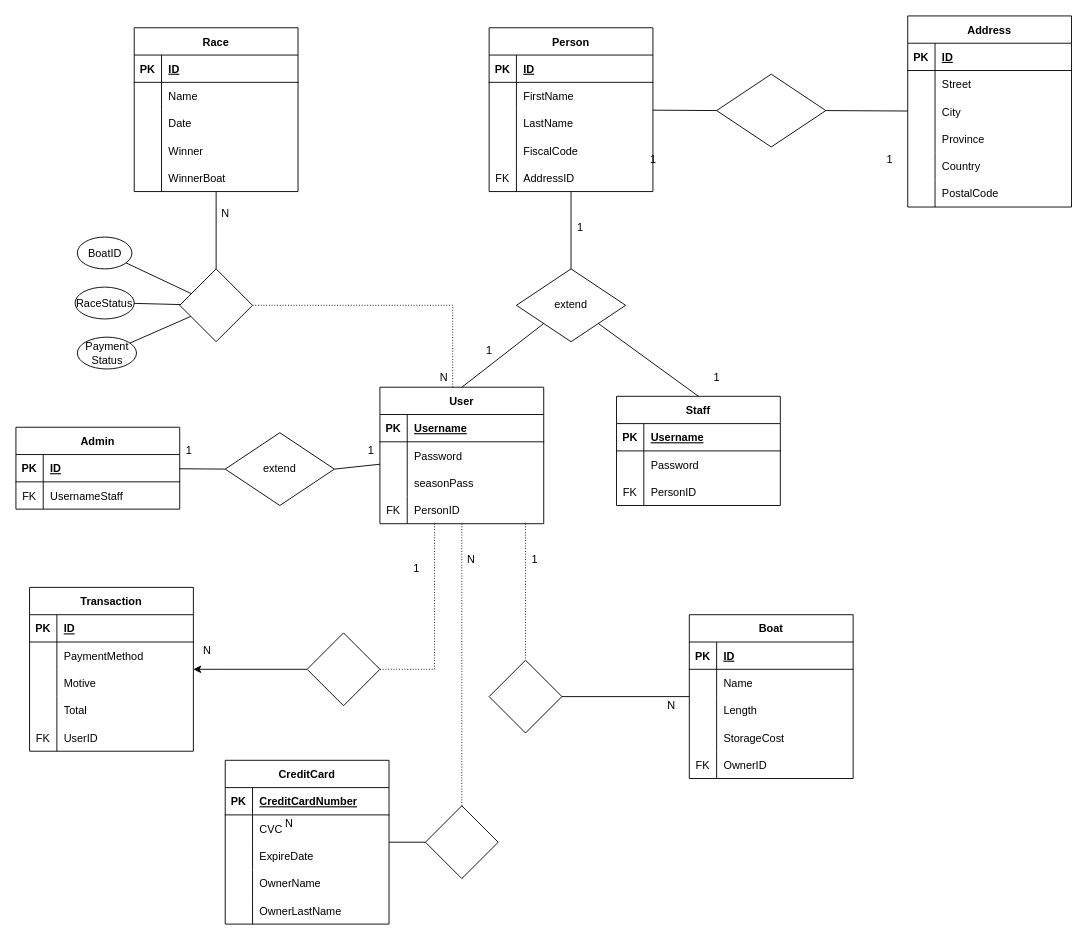
This 1087x940 diagram has some shape labels left out. The centre of each missing label's shape, as x and y in pixels:
"lives at" belongs at point 771,110.
"makes" belongs at point 343,669.
"owns" belongs at point 525,696.
"participates" belongs at point 216,305.
"uses" belongs at point 461,842.
